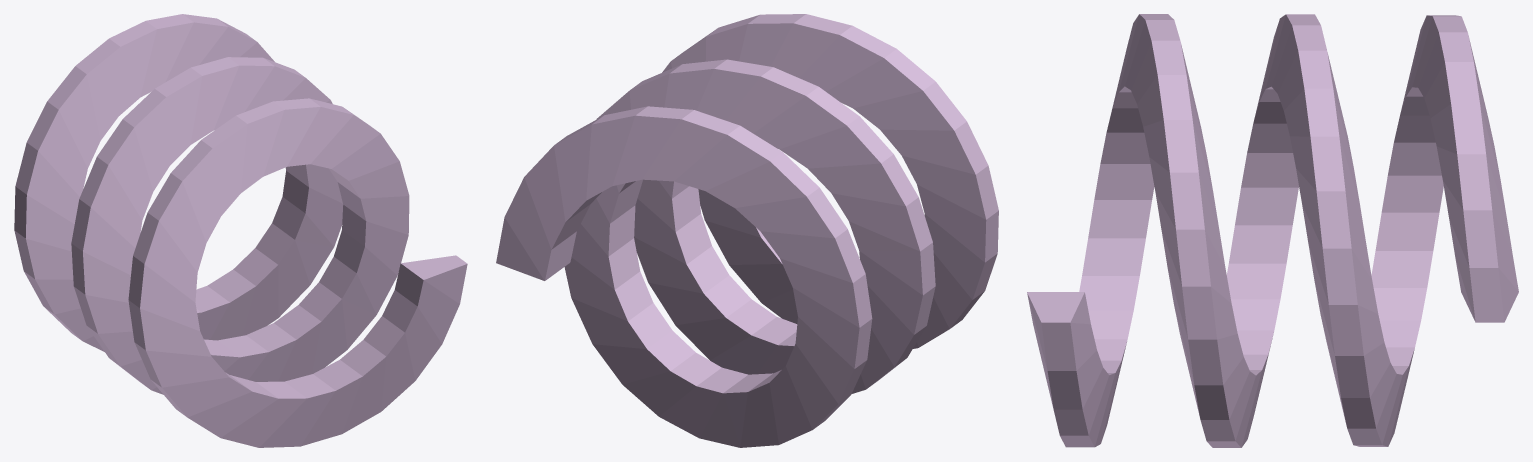
Rendered from helix_solid_demo.glb.
The picture shows the model from 3 angles, left to right: view 1: azimuth 30°, elevation 25°; view 2: azimuth 150°, elevation 25°; view 3: azimuth 270°, elevation 25°; orthographic projection. The views are drawn at different scales.
Parts seen in each view (by area): view 1: helix_band; view 2: helix_band; view 3: helix_band.
Part boxes in pixels (x1,y1,x2,y2): helix_band: [14, 14, 467, 447]; helix_band: [496, 14, 998, 447]; helix_band: [1027, 14, 1518, 447].
Size of the model in its own units: 11.99 by 12 by 13.6.
